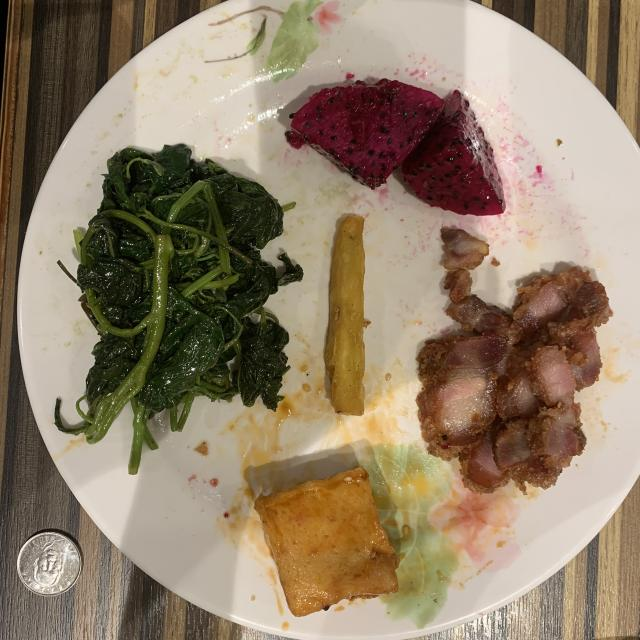coin: (18, 531, 81, 596)
creamy tofu: (255, 468, 399, 616)
red grilled pork: (418, 228, 611, 492)
sweet potato leaves: (64, 145, 299, 474)
